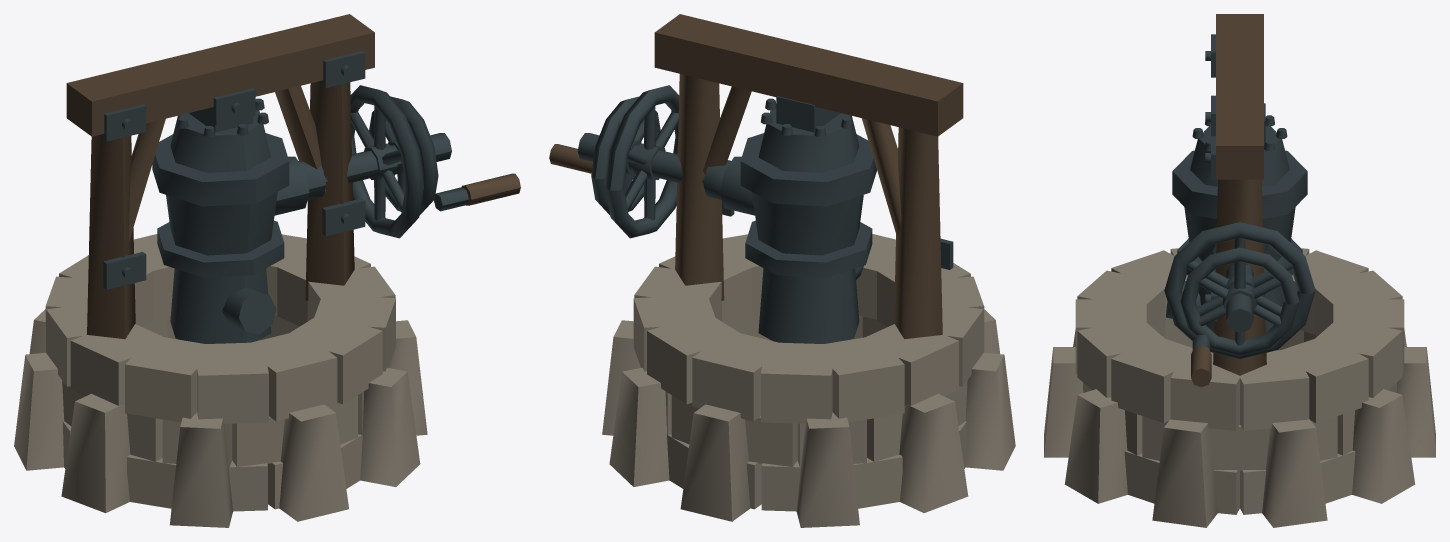
The model's file is Deep-Well.glb.
The picture shows the model from 3 angles, left to right: view 1: azimuth 30°, elevation 25°; view 2: azimuth 150°, elevation 25°; view 3: azimuth 270°, elevation 25°; orthographic projection. The views are drawn at different scales.
Visible parts, largest first — view 1: hand-pump-static-deep-well-warm-masonry-mat, hand-pump-static-deep-well-matte-dark-iron-mat, hand-pump-static-deep-well-structural-timber-mat; view 2: hand-pump-static-deep-well-warm-masonry-mat, hand-pump-static-deep-well-structural-timber-mat, hand-pump-static-deep-well-matte-dark-iron-mat; view 3: hand-pump-static-deep-well-warm-masonry-mat, hand-pump-static-deep-well-matte-dark-iron-mat, hand-pump-static-deep-well-structural-timber-mat.
Part boxes in pixels (box(x1,y1,x2,y2)): hand-pump-static-deep-well-warm-masonry-mat: box(14, 234, 427, 527); hand-pump-static-deep-well-matte-dark-iron-mat: box(103, 51, 468, 343); hand-pump-static-deep-well-structural-timber-mat: box(66, 14, 520, 338); hand-pump-static-deep-well-warm-masonry-mat: box(602, 234, 1015, 527); hand-pump-static-deep-well-structural-timber-mat: box(549, 14, 963, 339); hand-pump-static-deep-well-matte-dark-iron-mat: box(577, 85, 953, 343); hand-pump-static-deep-well-warm-masonry-mat: box(1044, 248, 1435, 527); hand-pump-static-deep-well-matte-dark-iron-mat: box(1164, 34, 1315, 358); hand-pump-static-deep-well-structural-timber-mat: box(1191, 14, 1266, 387).
Bounding box in the file's own units: 3.09 × 2.51 × 2.43.
